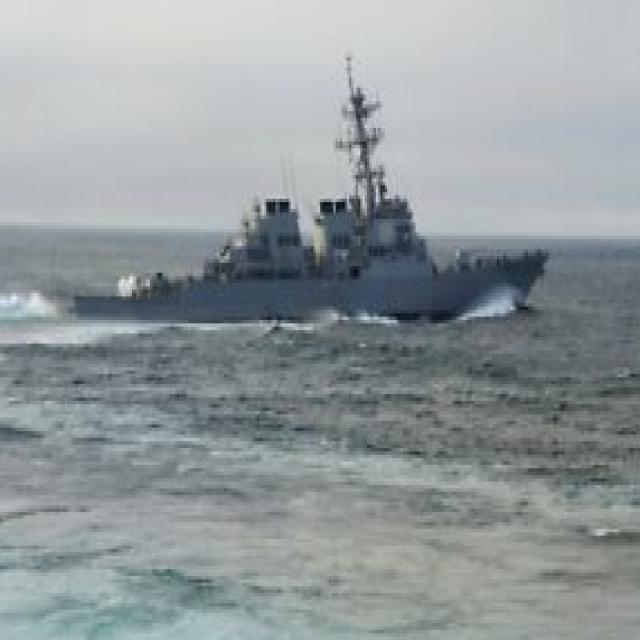navalvessels: (75, 35, 551, 330)
